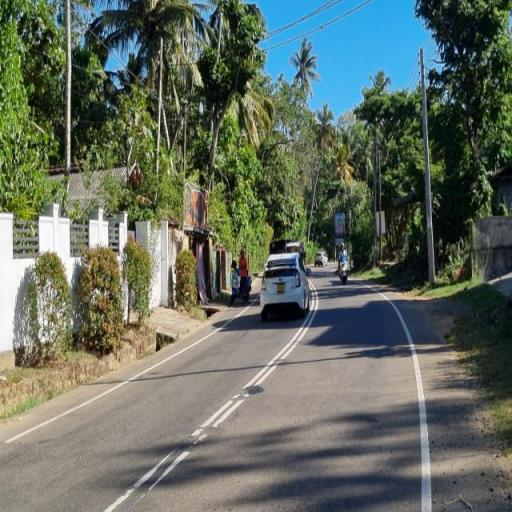double_white_line: (192, 269, 318, 438), (103, 446, 197, 512)
